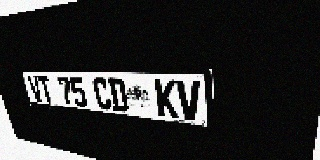5: (69, 77, 88, 108)
7: (56, 77, 75, 106)
C: (92, 78, 113, 111)
D: (107, 78, 129, 113)
K: (154, 79, 178, 118)
T: (37, 76, 55, 104)
V: (176, 80, 202, 121), (27, 76, 44, 102)
